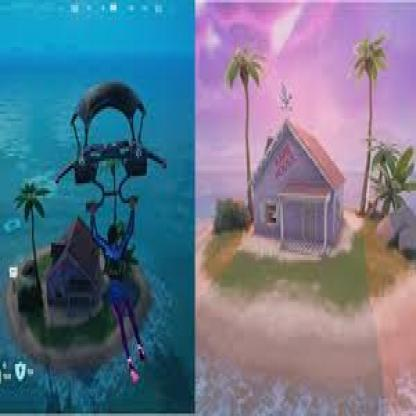person: (93, 224, 155, 368)
